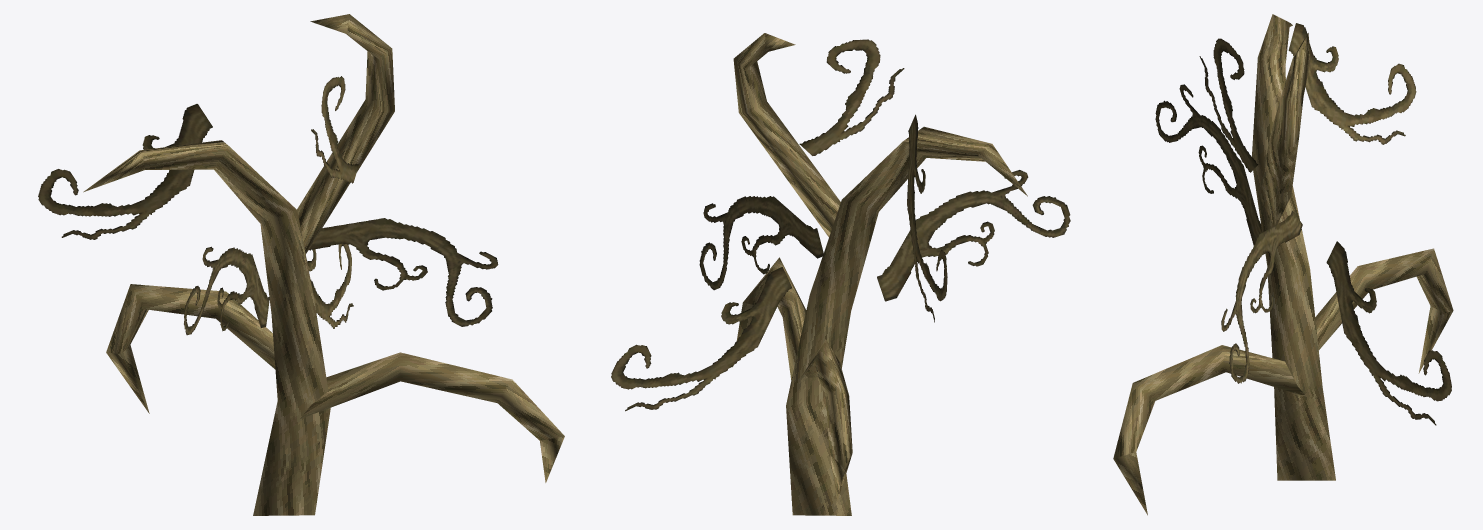
The model's file is INST_OH_SPIKE_SHRUB_02.obj.
3 renders of one model, left to right at view 1: azimuth 30°, elevation 25°; view 2: azimuth 150°, elevation 25°; view 3: azimuth 270°, elevation 25°, orthographic. The views are drawn at different scales.
Visible parts, largest first — view 1: Inst_Shrub_02_; view 2: Inst_Shrub_02_; view 3: Inst_Shrub_02_.
Boxes of the visible parts, bbox=[...] form: Inst_Shrub_02_: bbox=[38, 14, 564, 515]; Inst_Shrub_02_: bbox=[611, 33, 1070, 515]; Inst_Shrub_02_: bbox=[1113, 14, 1453, 515].
Bounding box in the file's own units: 126 × 143 × 100.
